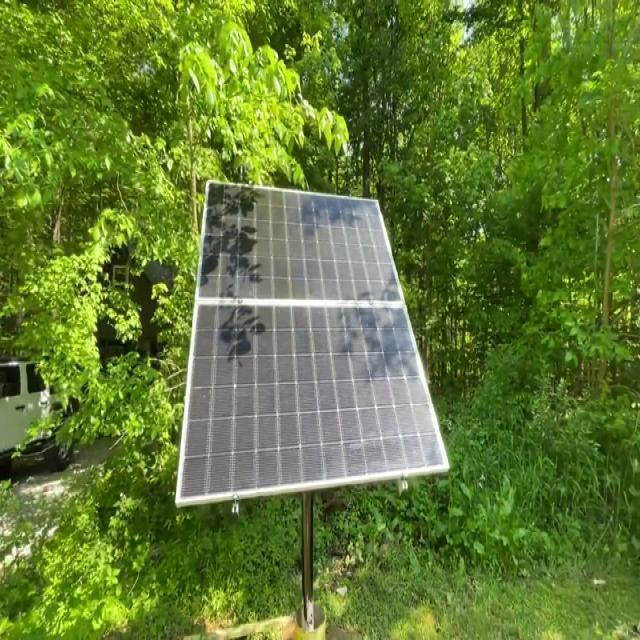Normal Solar Panel: (179, 305, 448, 504), (200, 181, 404, 301)
